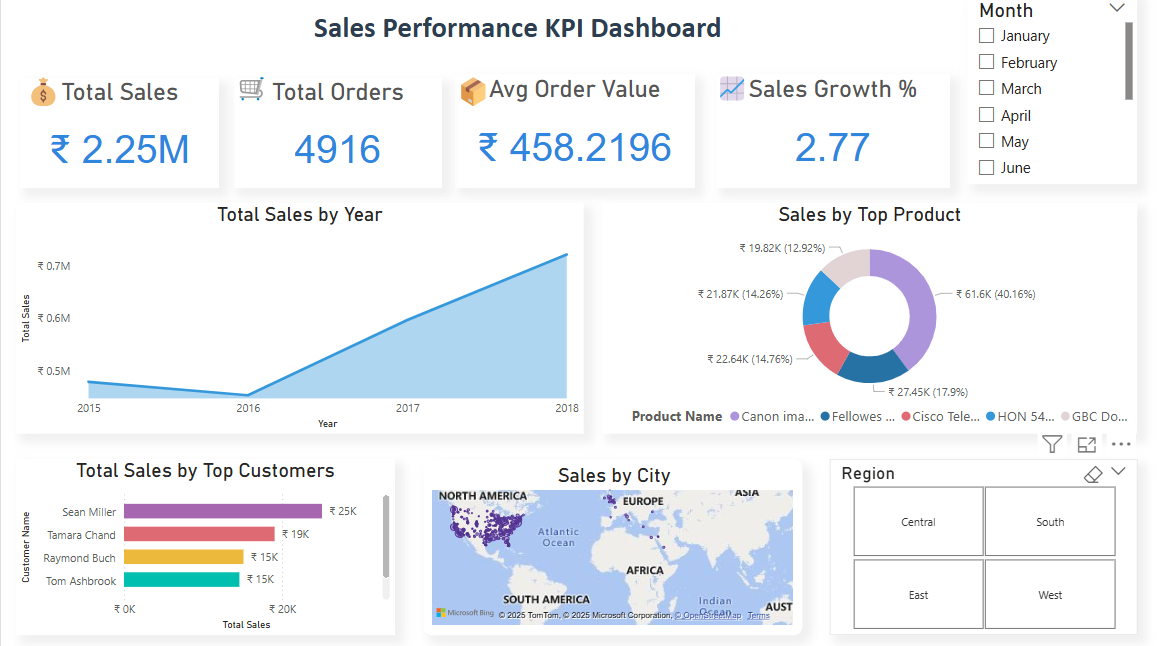

Layout of this report page (visuals, bound fields, positions):
{"tool":"powerbi","page":{"name":"Page 1","canvas":[1280,720],"ordinal":0},"visuals":[{"type":"card","title":"Total Sales","fields":{"Values":["Sales_data.Total Sales"]},"box":[20.6,91.9,219.6,120.8],"z":0},{"type":"card","title":"Total Orders","fields":{"Values":["Sales_data.Total Orders"]},"box":[255.2,91.9,229.2,120.8],"z":1000},{"type":"card","title":"Avg Order Value","fields":{"Values":["Sales_data.Avg Order Value"]},"box":[498.1,87.8,263.5,124.9],"z":2000},{"type":"card","title":"Sales Growth %","fields":{"Values":["Sales_data.Sales Growth %"]},"box":[784.9,87.8,256.6,124.9],"z":3000},{"type":"donutChart","title":"Sales by Top Product","fields":{"Category":["Sales_data.Product Name"],"Y":["Sales_data.Total Sales"]},"box":[660,229.2,587.3,253.9],"z":4000},{"type":"clusteredBarChart","title":"Total Sales by Top Customers","fields":{"Category":["Sales_data.Customer Name"],"Y":["Sales_data.Total Sales"]},"box":[16.5,510.5,415.8,193.5],"z":5000},{"type":"map","title":"Sales by City","fields":{"Category":["Sales_data.City"],"Size":["Sales_data.Total Sales"]},"box":[463.8,510.5,415.8,193.5],"z":6000},{"type":"areaChart","fields":{"Y":["Sales_data.Total Sales"],"Category":["Date_table.Year"]},"box":[16.5,229.2,623,253.9],"z":7000},{"type":"slicer","fields":{"Values":["Sales_data.Region"]},"box":[909.8,510.5,337.6,193.5],"z":8000},{"type":"slicer","fields":{"Values":["Date_table.Month"]},"box":[1060.7,0,186.6,208.6],"z":9000},{"type":"textbox","box":[0,79.6,93.3,59],"z":10000},{"type":"textbox","box":[240.1,79.6,70,49.4],"z":11000},{"type":"textbox","box":[451.5,79.6,134.5,71.4],"z":12000},{"type":"textbox","box":[739.6,79.6,126.2,72.7],"z":13000},{"type":"textbox","box":[255.2,12.3,624.4,50.8],"z":14000}]}

Visuals, with their boxes on the page's 1280x720 design canvas (x1, y1, x2, y2). These are canvas units, not pixel positions in the 1163x646 screenshot, which may show the page scaled, cropped or inside an application window:
"Total Sales" card: (x1=21, y1=92, x2=240, y2=213)
"Total Orders" card: (x1=255, y1=92, x2=484, y2=213)
"Avg Order Value" card: (x1=498, y1=88, x2=762, y2=213)
"Sales Growth %" card: (x1=785, y1=88, x2=1042, y2=213)
"Sales by Top Product" donutChart: (x1=660, y1=229, x2=1247, y2=483)
"Total Sales by Top Customers" clusteredBarChart: (x1=16, y1=510, x2=432, y2=704)
"Sales by City" map: (x1=464, y1=510, x2=880, y2=704)
areaChart - Sales_data.Total Sales x Date_table.Year: (x1=16, y1=229, x2=640, y2=483)
slicer - Sales_data.Region: (x1=910, y1=510, x2=1247, y2=704)
slicer - Date_table.Month: (x1=1061, y1=0, x2=1247, y2=209)
textbox: (x1=0, y1=80, x2=93, y2=139)
textbox: (x1=240, y1=80, x2=310, y2=129)
textbox: (x1=452, y1=80, x2=586, y2=151)
textbox: (x1=740, y1=80, x2=866, y2=152)
textbox: (x1=255, y1=12, x2=880, y2=63)
